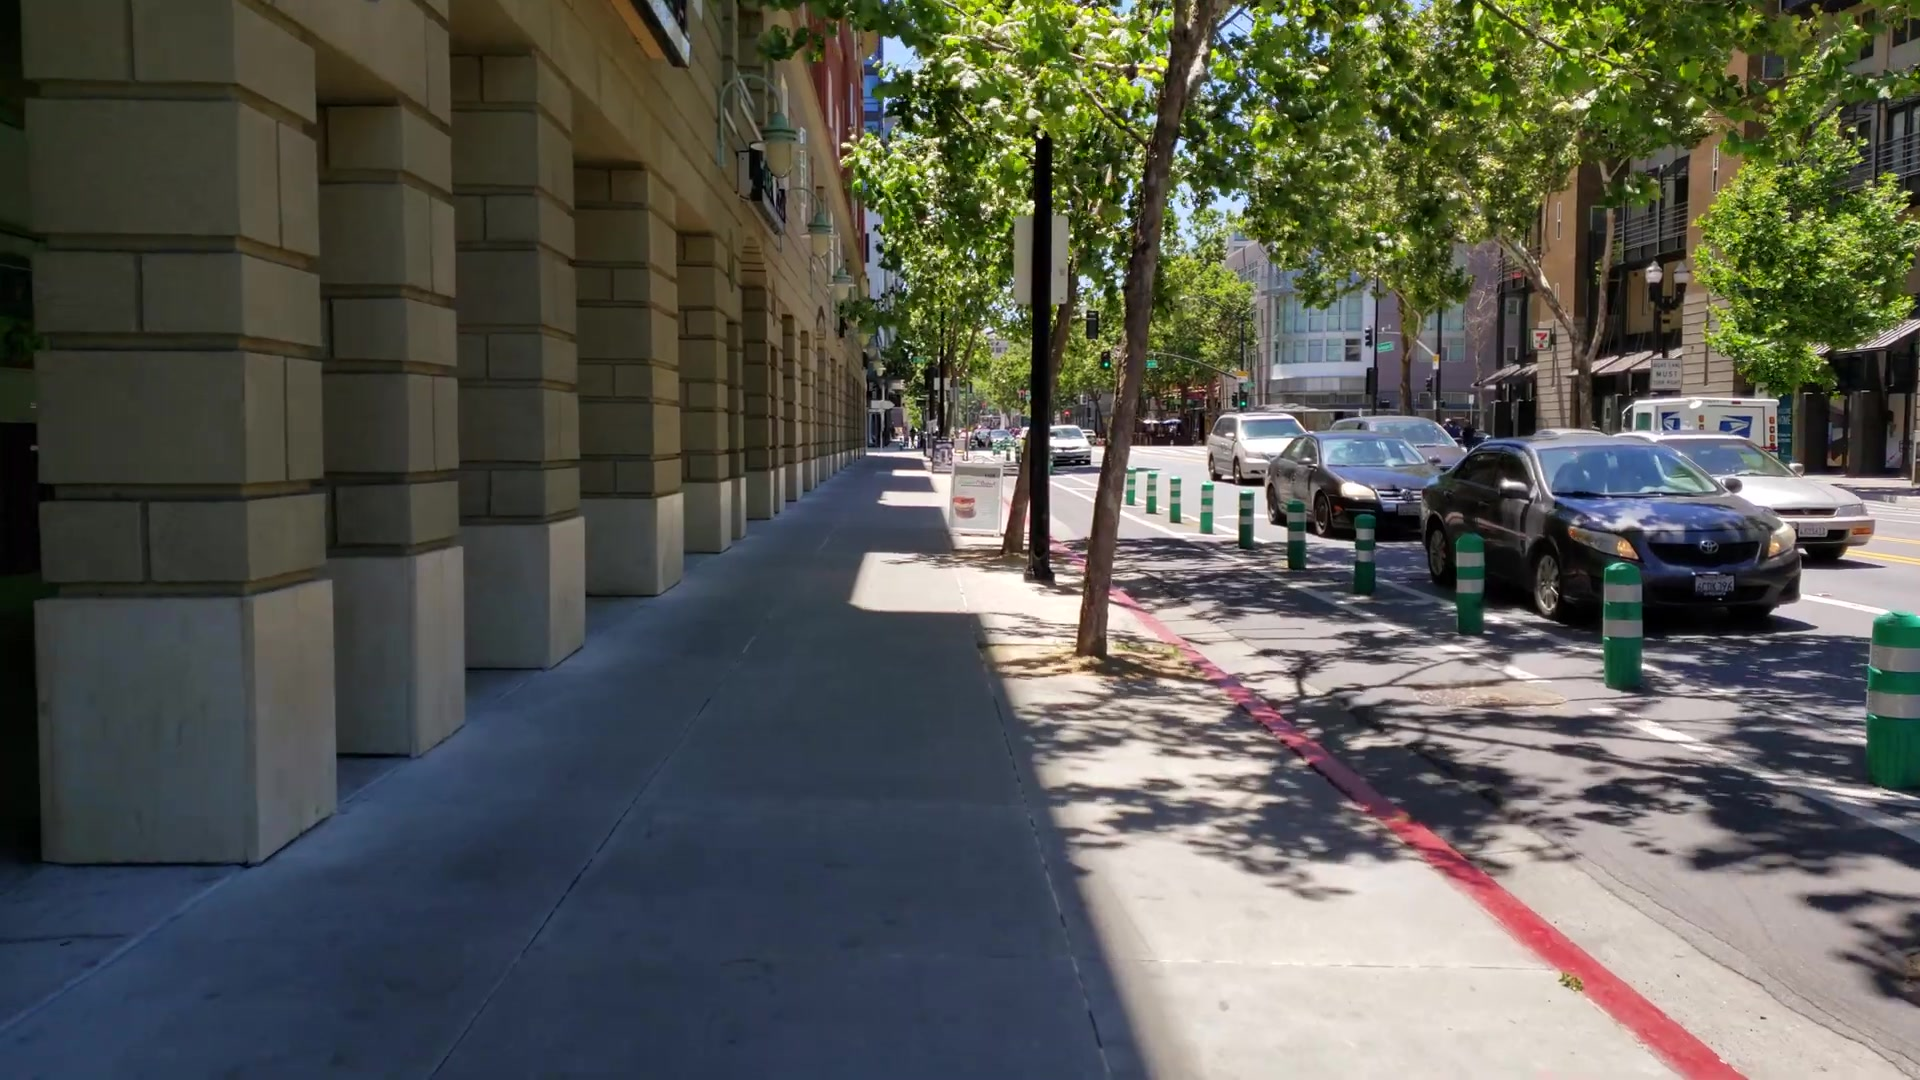vehicle: (1419, 440, 1804, 626), (1265, 431, 1443, 531)
